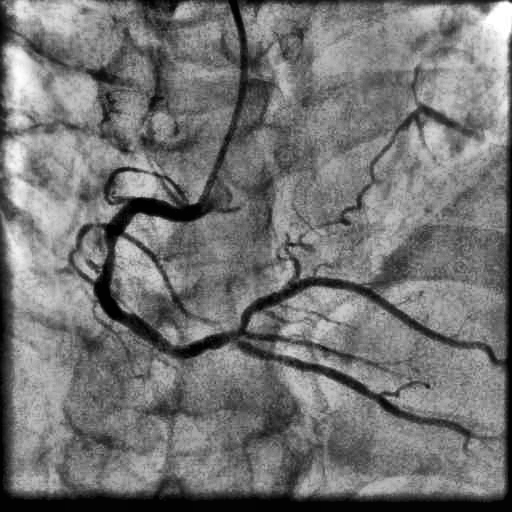pborca: (240, 277, 506, 366)
pda: (234, 334, 506, 441)
rca: (94, 197, 242, 358)
